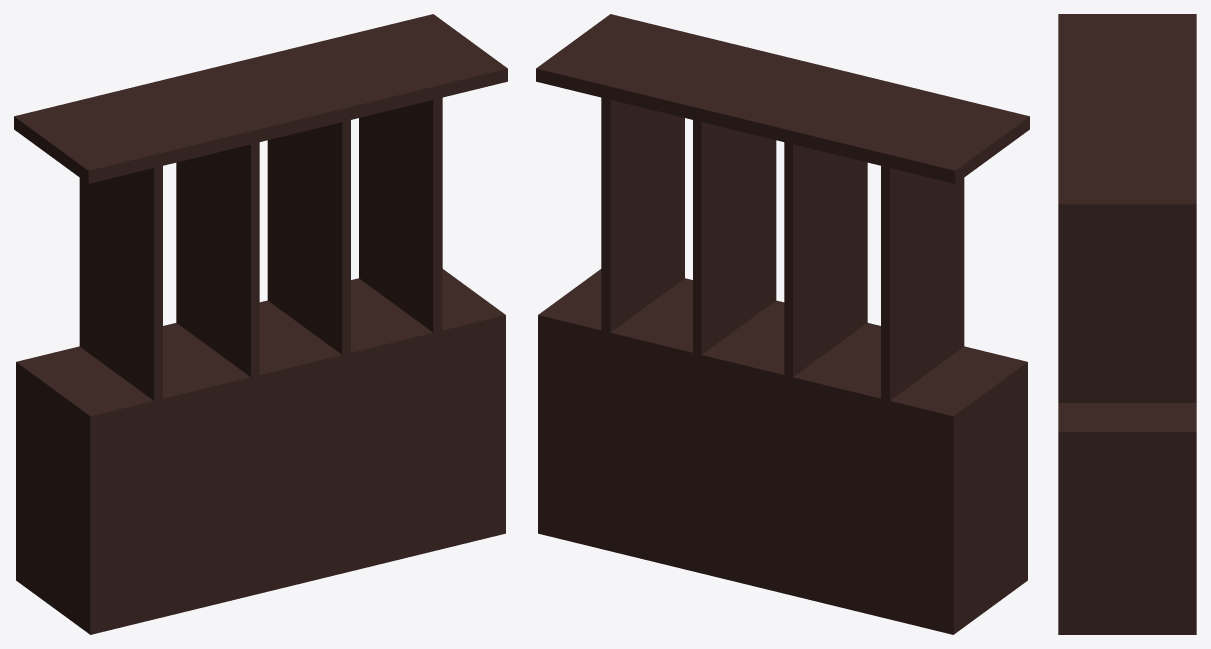
File: shelf.obj
The picture shows the model from 3 angles, left to right: view 1: azimuth 30°, elevation 25°; view 2: azimuth 150°, elevation 25°; view 3: azimuth 270°, elevation 25°; orthographic projection. The views are drawn at different scales.
Visible parts, largest first — view 1: model; view 2: model; view 3: model.
Boxes of the visible parts, box(x1,y1,x2,y2) form: model: box(14, 14, 507, 634); model: box(536, 14, 1029, 634); model: box(1058, 14, 1196, 634).
Size of the model in its own units: 1.95 by 2.06 by 0.6.
